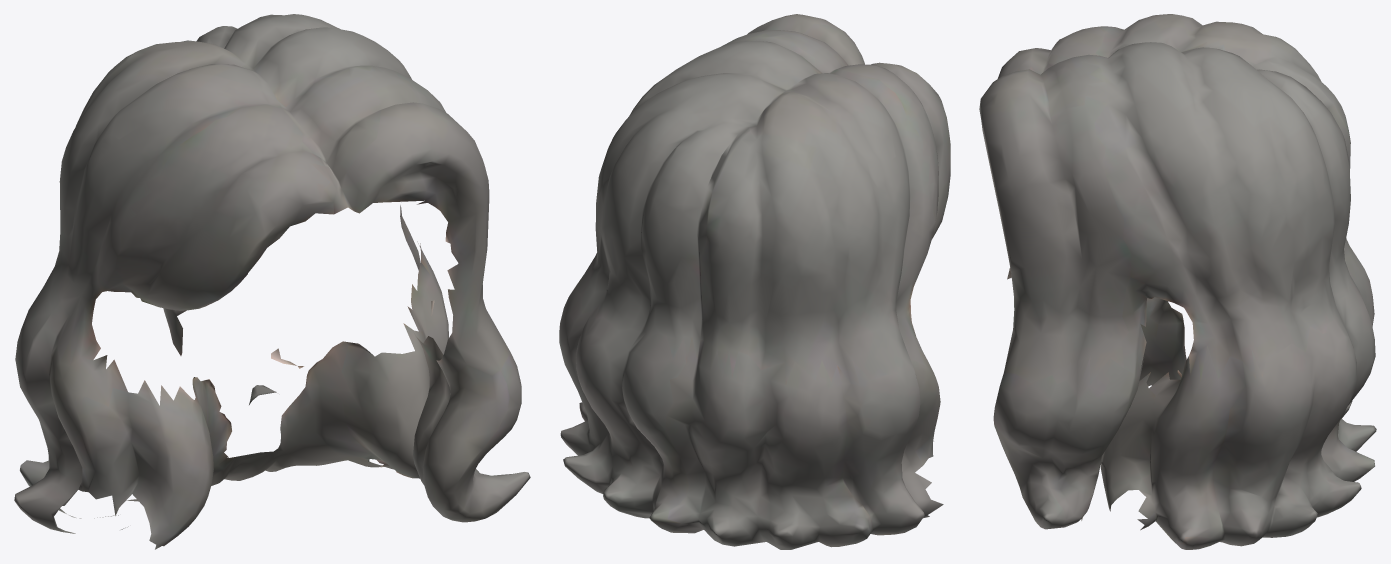
File: hair-f-lob.glb
3 views of the same model, side by side, from view 1: azimuth 30°, elevation 25°; view 2: azimuth 150°, elevation 25°; view 3: azimuth 270°, elevation 25° (orthographic). The views are drawn at different scales.
Parts seen in each view (by area): view 1: hair-f-lob; view 2: hair-f-lob; view 3: hair-f-lob.
Part boxes in pixels (x1,y1,x2,y2): hair-f-lob: (14,14,530,549); hair-f-lob: (559,14,950,549); hair-f-lob: (979,14,1376,549).
Bounding box in the file's own units: 1.25 × 1.37 × 1.09.
Materials: 1 (1 with a texture image).
